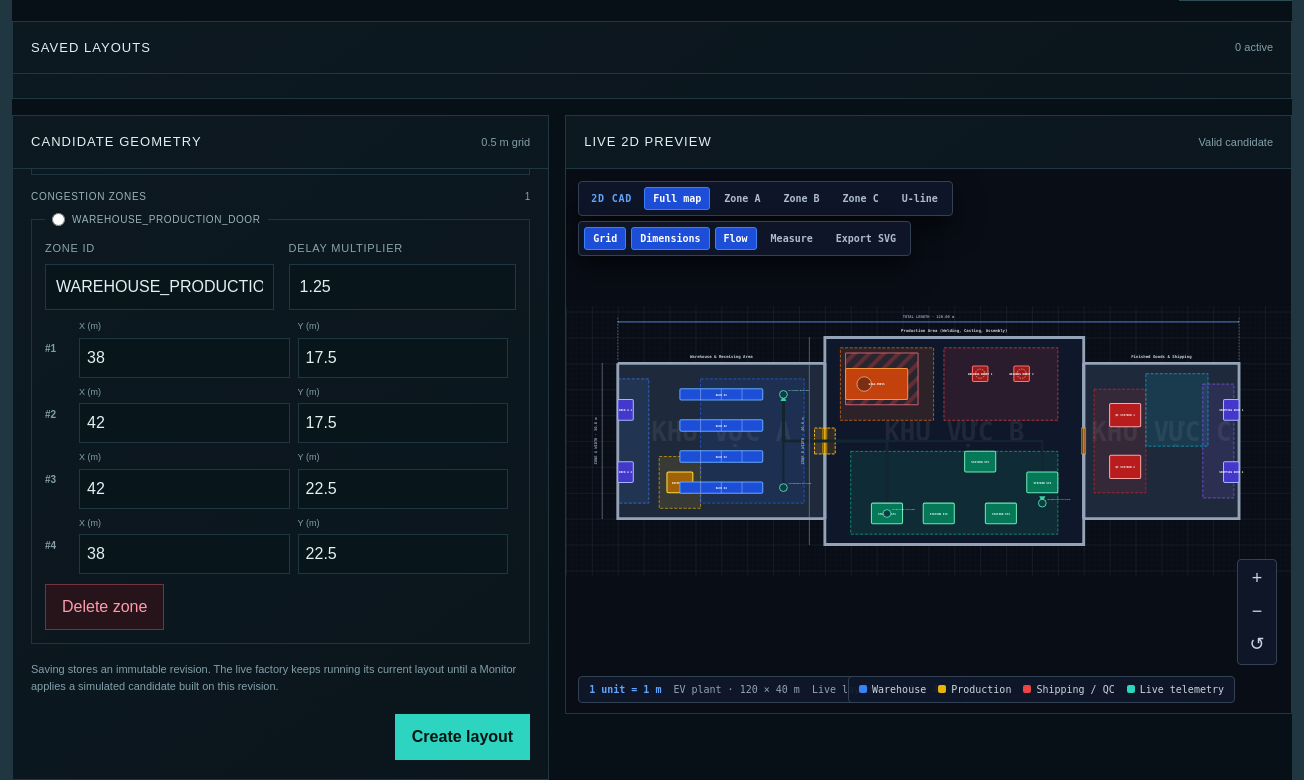
Scenario: LayoutsPage › creates a persisted layout from a valid draft
(page scrolled)
What coordinates should you click on to do the following:
click the button "Create layout"
I would click on:
 (462, 737)
Its box is [395, 714, 530, 760].
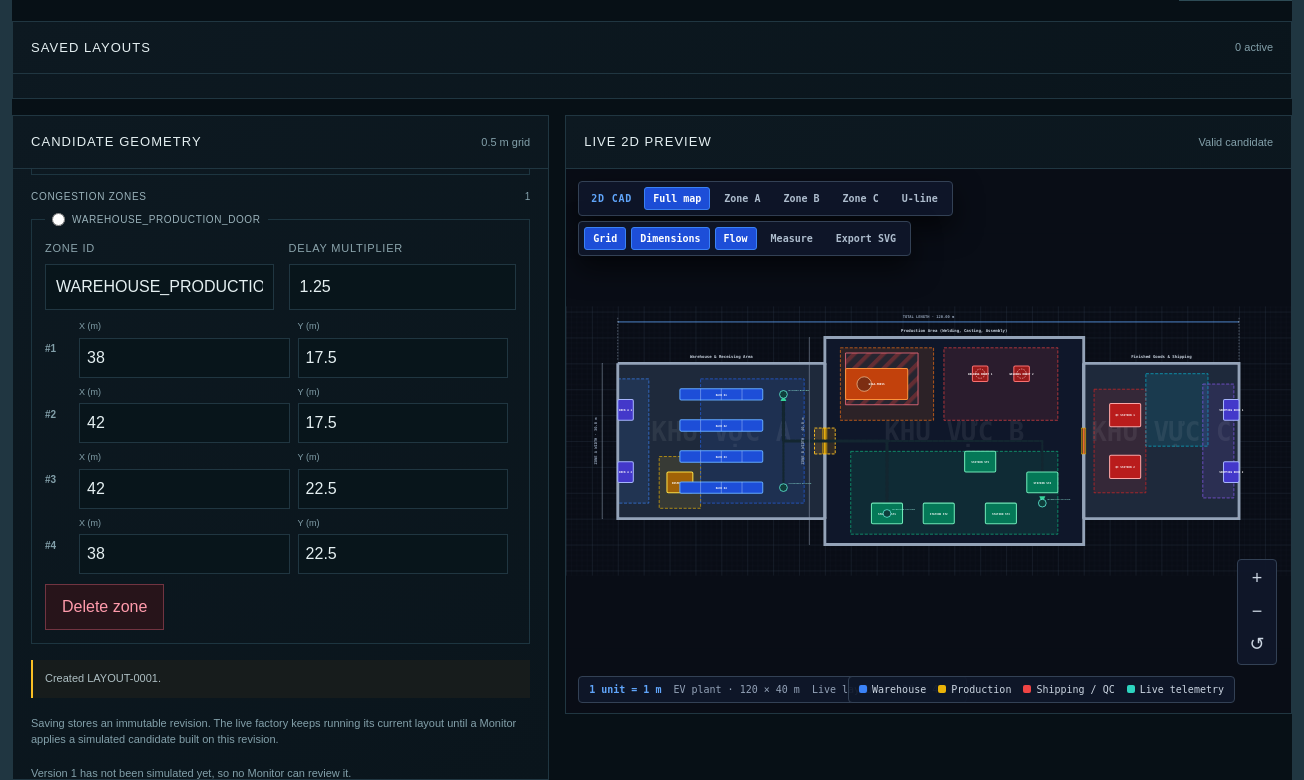
Expected: the text "Created LAYOUT-0001." is shown, [31, 660, 530, 698]
